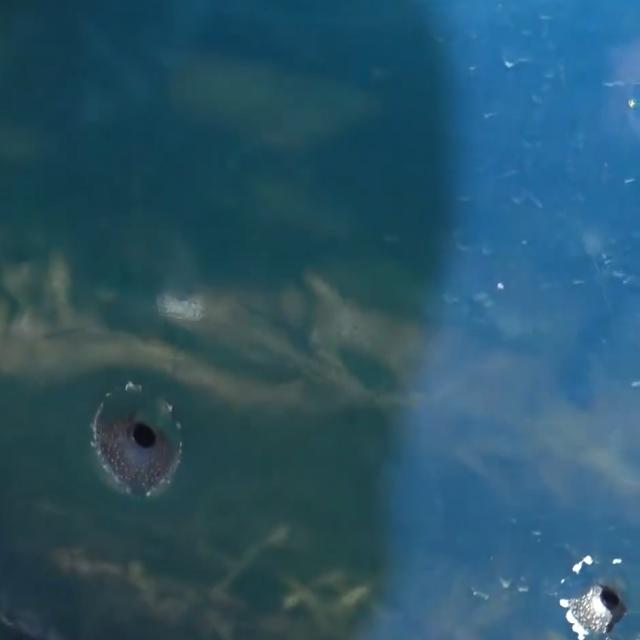bullets: (93, 384, 193, 494), (548, 557, 640, 640)
